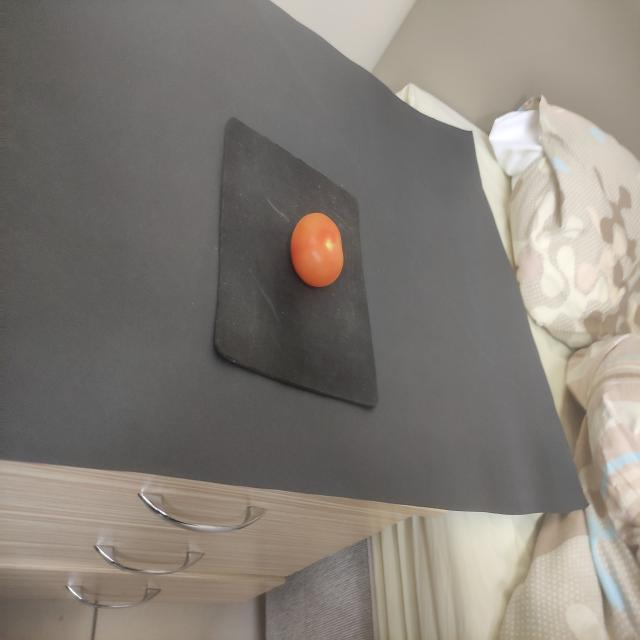sari: (285, 201, 354, 293)
